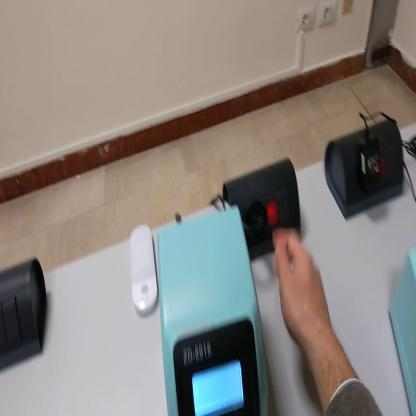hand: (273, 228, 332, 346)
socket: (225, 154, 302, 268), (325, 117, 404, 222)
welder base: (389, 252, 415, 416)
welder station: (158, 207, 269, 415)
